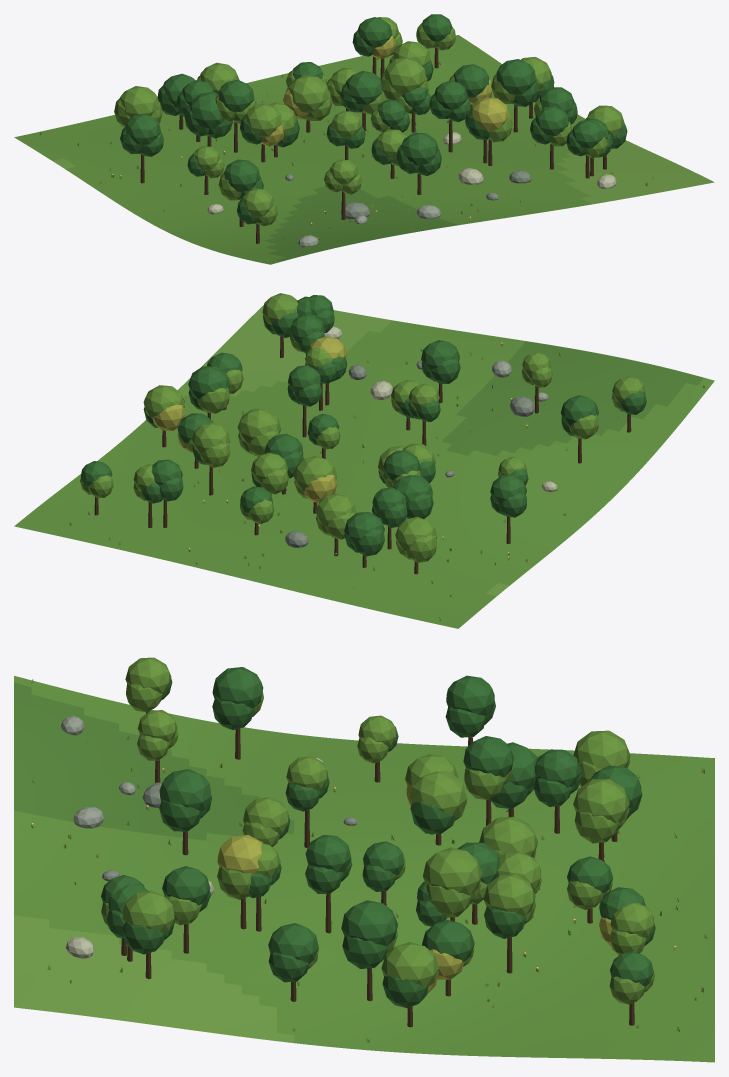
The model's file is Chunk_X-2_Y0_Z3.fbx.
3 views of the same model, one above another, from view 1: azimuth 30°, elevation 25°; view 2: azimuth 150°, elevation 25°; view 3: azimuth 270°, elevation 25° (orthographic). The views are drawn at different scales.
Visible parts, largest first — view 1: Terrain.013, Canopies.013, Trunks.013, Rocks.013, GroundCover.013; view 2: Terrain.013, Canopies.013, Trunks.013, Rocks.013, GroundCover.013; view 3: Terrain.013, Canopies.013, Trunks.013, Rocks.013, GroundCover.013.
Part boxes in pixels (bbox=[...]): Terrain.013: bbox=[14, 35, 714, 264]; Canopies.013: bbox=[114, 14, 627, 226]; Trunks.013: bbox=[140, 47, 606, 243]; Rocks.013: bbox=[207, 132, 616, 247]; GroundCover.013: bbox=[39, 50, 653, 261]; Terrain.013: bbox=[14, 305, 714, 628]; Canopies.013: bbox=[80, 293, 646, 562]; Trunks.013: bbox=[94, 336, 631, 574]; Rocks.013: bbox=[285, 326, 557, 547]; GroundCover.013: bbox=[69, 342, 704, 620]; Terrain.013: bbox=[14, 676, 714, 1062]; Canopies.013: bbox=[101, 657, 655, 1008]; Trunks.013: bbox=[121, 711, 634, 1027]; Rocks.013: bbox=[61, 715, 357, 958]; GroundCover.013: bbox=[31, 679, 707, 1042].
Size of the model in its own units: 100 by 21.81 by 100.
